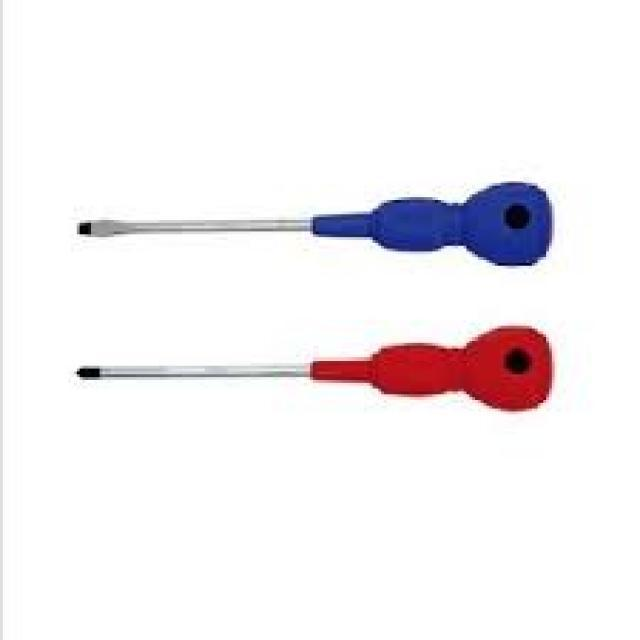screwdriver: (71, 172, 555, 268), (74, 324, 555, 416)
